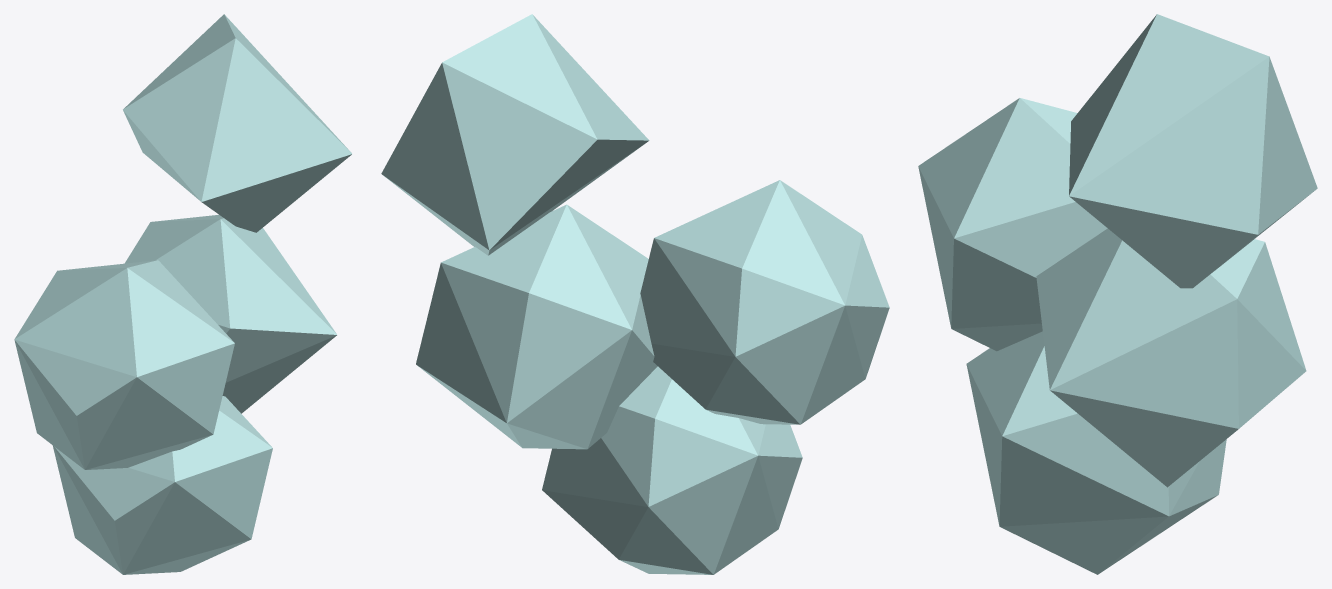
File: cloud-012.glb
3 renders of one model, left to right at view 1: azimuth 30°, elevation 25°; view 2: azimuth 150°, elevation 25°; view 3: azimuth 270°, elevation 25°, orthographic. The views are drawn at different scales.
Visible parts, largest first — view 1: cloud 11_35; view 2: cloud 11_35; view 3: cloud 11_35.
Part boxes in pixels (x1=…): cloud 11_35: x1=14, y1=14, x2=351, y2=574; cloud 11_35: x1=381, y1=14, x2=889, y2=574; cloud 11_35: x1=918, y1=14, x2=1317, y2=574.
Size of the model in its own units: 0.9286 by 1.28 by 0.7647.
